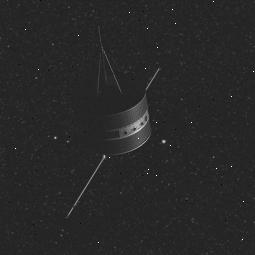double_start: (61, 36, 168, 163)
